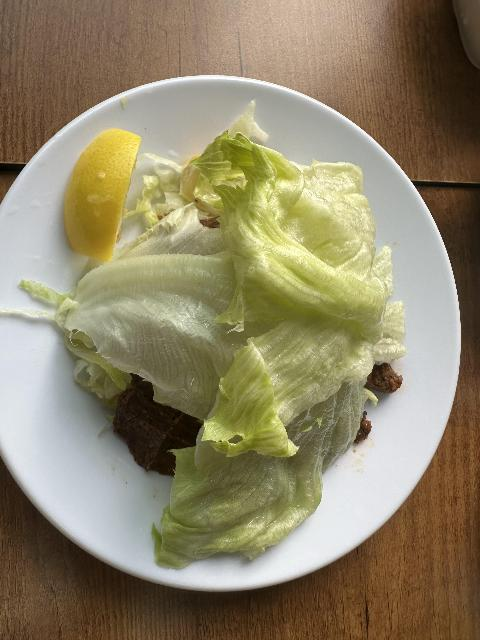Organik: (140, 340, 379, 563), (8, 268, 279, 452), (197, 160, 384, 332), (48, 119, 149, 265), (114, 405, 206, 462)
